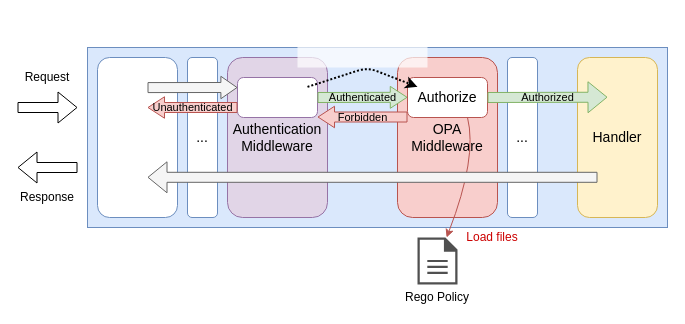
Image size: 685x324. Some labels were removed from this diagram. Each missing label, with the centre of its shape:
Authenticate: point 277,97
middleware: point 137,137
Propagate authenticated client's information via context.: point 362,42
